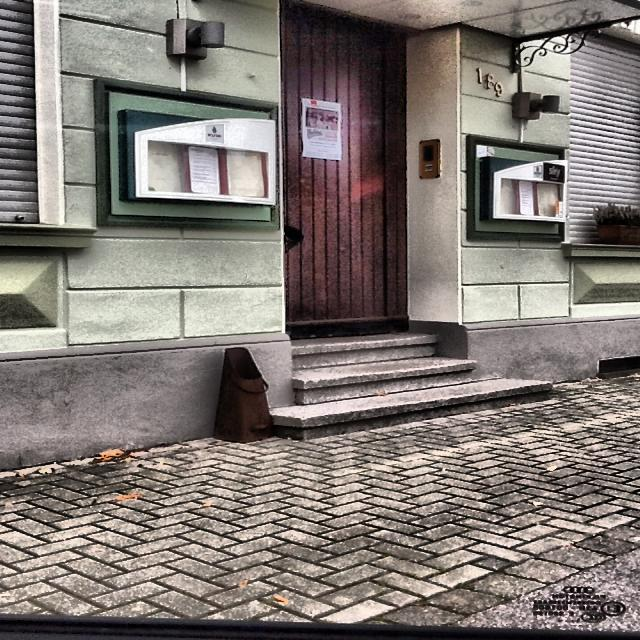escada: (280, 337, 555, 441)
